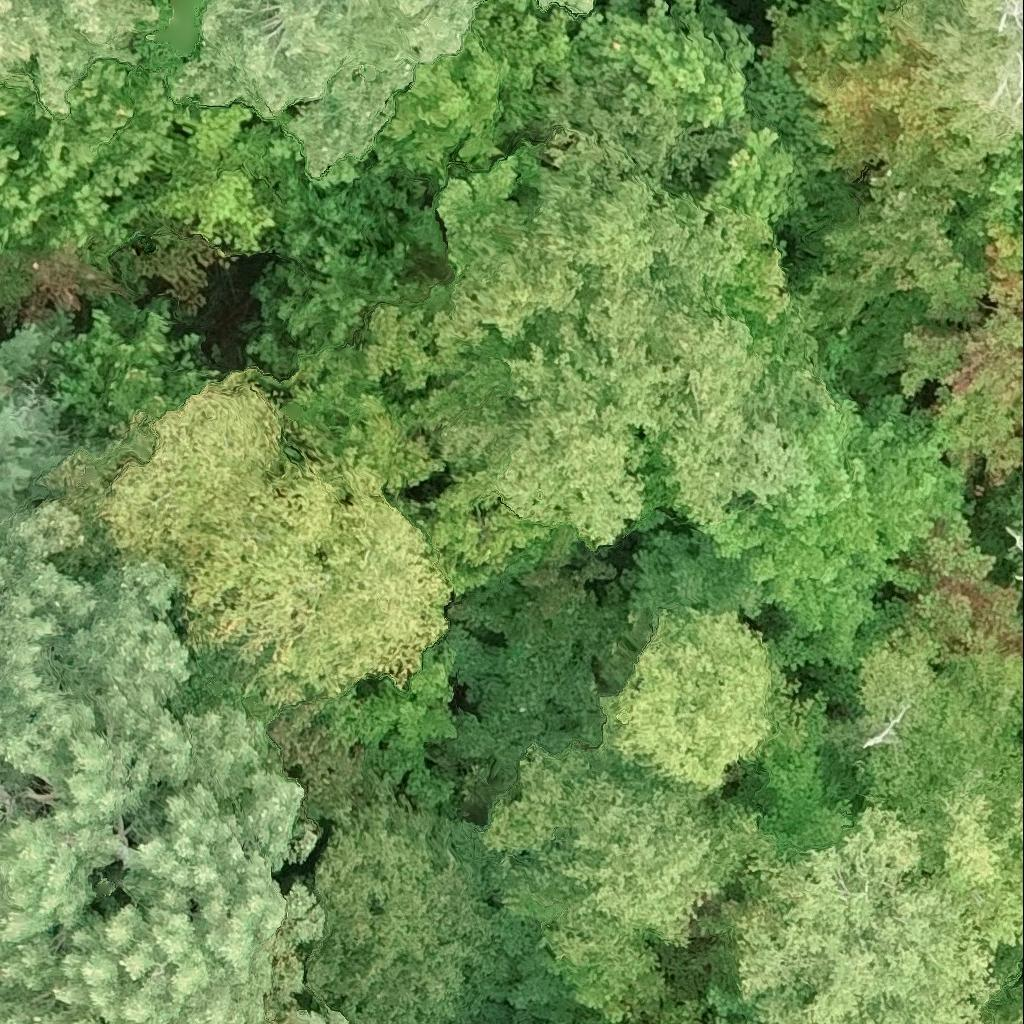crown: (432, 65, 813, 550), (0, 709, 321, 1023), (0, 504, 191, 971), (273, 712, 531, 1023), (488, 737, 770, 1017), (716, 787, 1023, 1023), (170, 462, 452, 712), (705, 430, 958, 661), (169, 0, 483, 180), (428, 532, 657, 764), (257, 304, 527, 481), (48, 384, 291, 580), (0, 67, 194, 267), (605, 608, 793, 798), (37, 312, 221, 451), (852, 622, 985, 805), (888, 0, 1023, 164), (0, 0, 153, 117), (0, 325, 82, 524), (534, 0, 592, 13), (285, 1011, 346, 1023), (1012, 791, 1023, 841)
